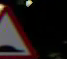Speed Breaker ahead: (0, 4, 38, 56)
